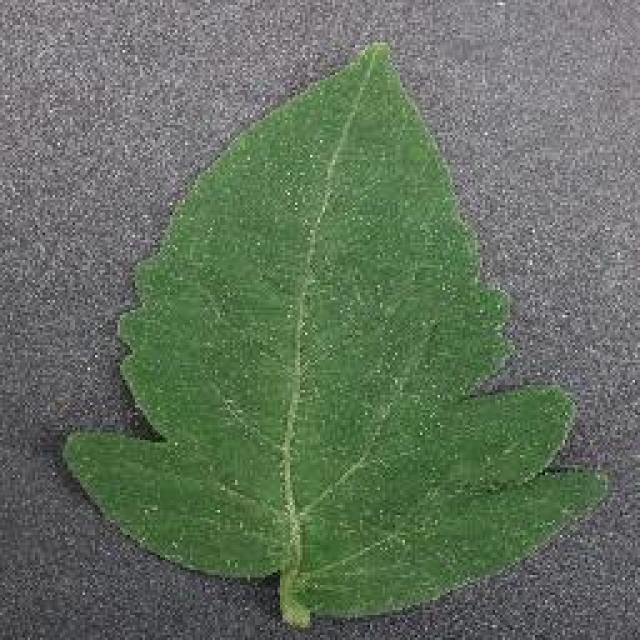Healthy: (55, 20, 613, 640)
